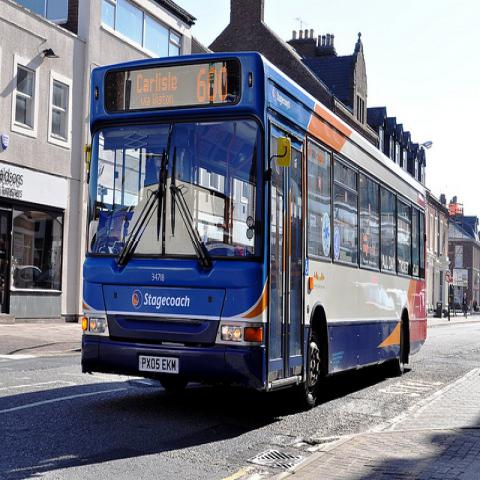bus: (82, 51, 428, 408)
